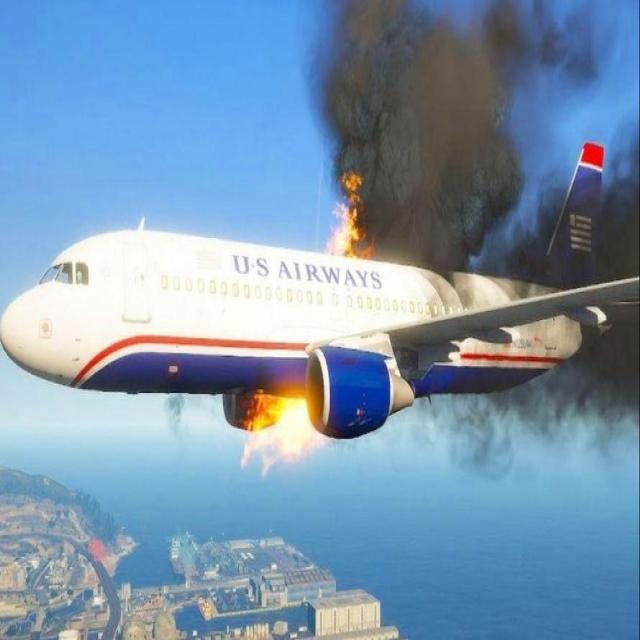Fire: (249, 392, 315, 464)
Smoke: (322, 0, 533, 261)
